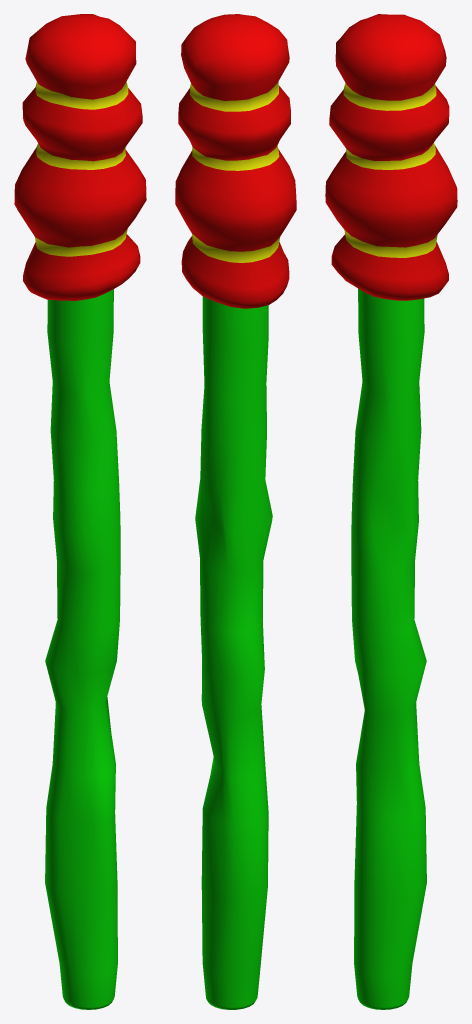
Rendered from torche.fbx.
3 views of the same model, side by side, from view 1: azimuth 90°, elevation 25°; view 2: azimuth 210°, elevation 25°; view 3: azimuth 270°, elevation 25° (orthographic).
Visible parts, largest first — view 1: torche; view 2: torche; view 3: torche.
Part boxes in pixels (box(x1,y1,x2,y2)): torche: box(14, 14, 146, 1009); torche: box(175, 14, 296, 1009); torche: box(325, 14, 457, 1009).
Bounding box in the file's own units: 0.1135 × 1 × 0.1224.
